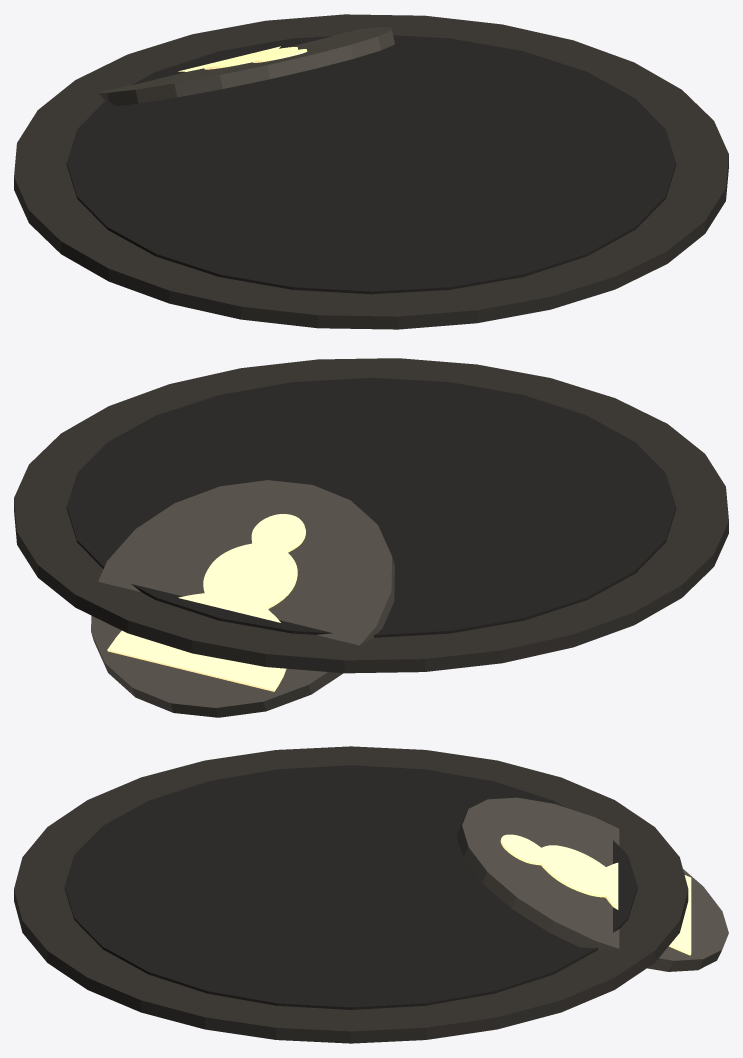
File: glyph_ring_pawn.glb
The picture shows the model from 3 angles, top to bottom: view 1: azimuth 30°, elevation 25°; view 2: azimuth 150°, elevation 25°; view 3: azimuth 270°, elevation 25°; orthographic projection. The views are drawn at different scales.
Visible parts, largest first — view 1: GlyphRing_pawn; view 2: GlyphRing_pawn; view 3: GlyphRing_pawn.
Boxes of the visible parts, x1,y1,x2,y2 form: GlyphRing_pawn: [14, 14, 728, 329]; GlyphRing_pawn: [14, 358, 728, 717]; GlyphRing_pawn: [14, 746, 728, 1043].
Bounding box in the file's own units: 0.6 × 0.1167 × 0.6362.
